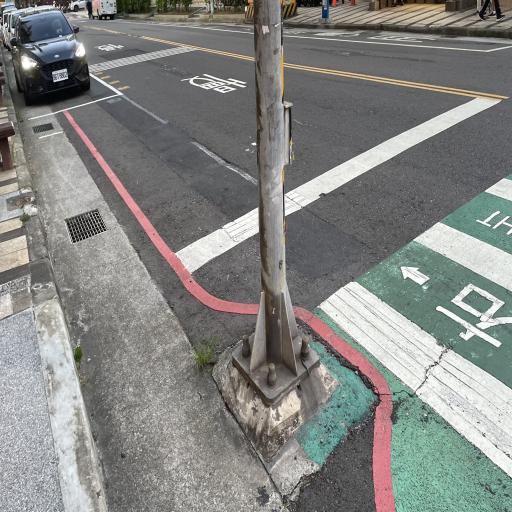car: (4, 7, 102, 105)
redline: (58, 103, 393, 510)
